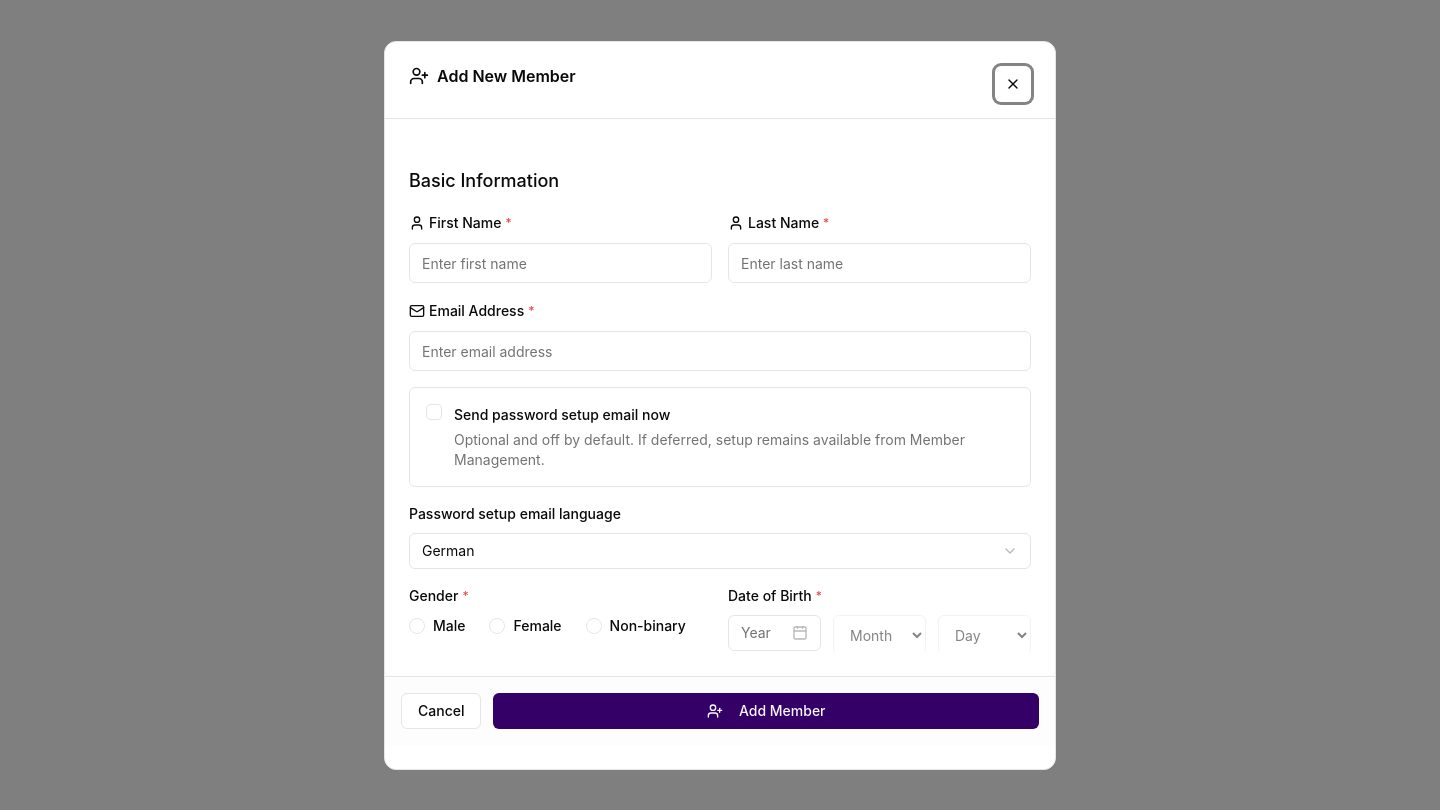
Test: AddMemberModal Account Onboarding intent › submits active Member establishment with establishPlayer=false
The image size is (1440, 810).
In the field labelled "First Name": point(560, 262) [409,242,712,282], type "New"
In the field labelled "Last Name": point(880, 262) [728,242,1031,282], type "Member"
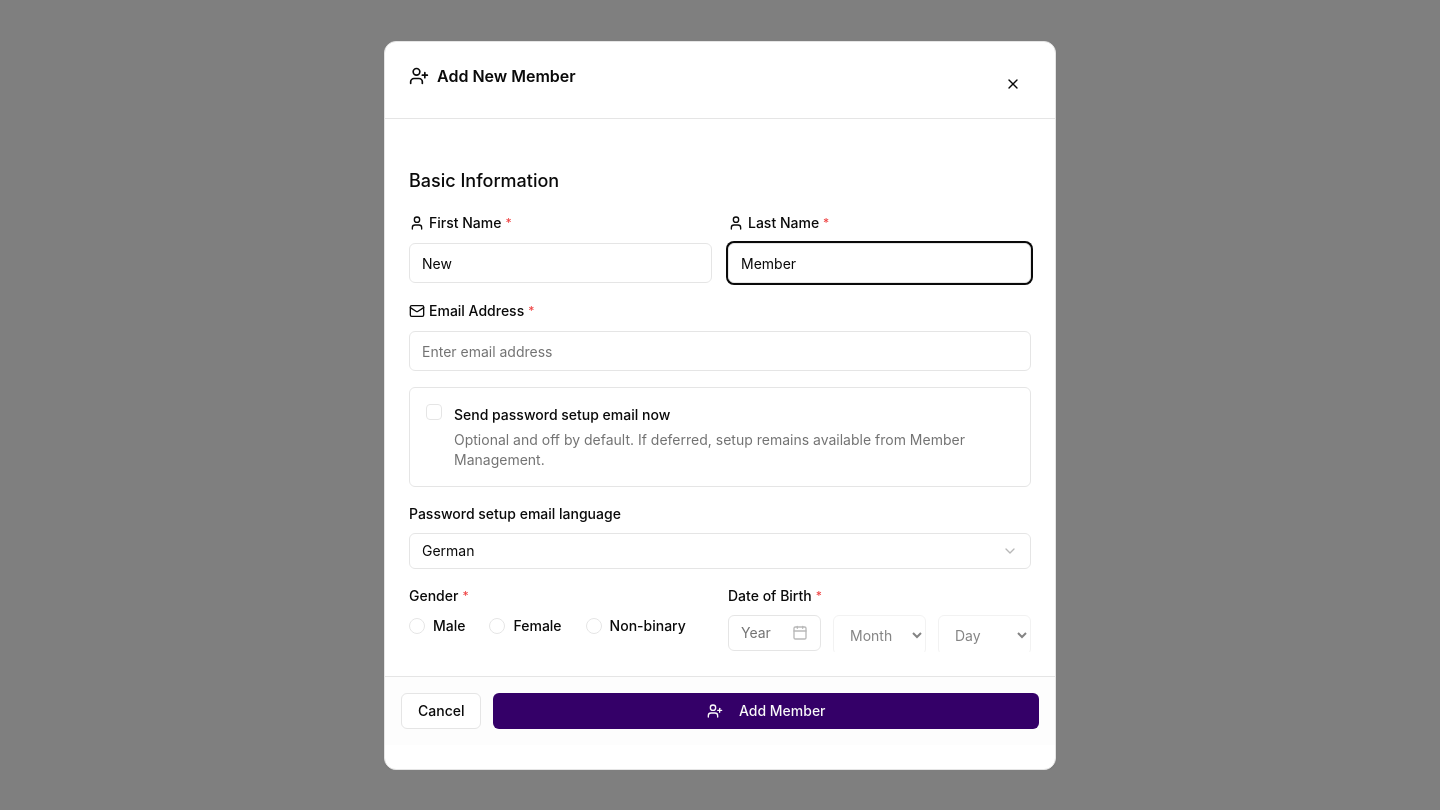
In the field labelled "Email Address": point(720, 350) [409,330,1031,370], type "new@example.test"
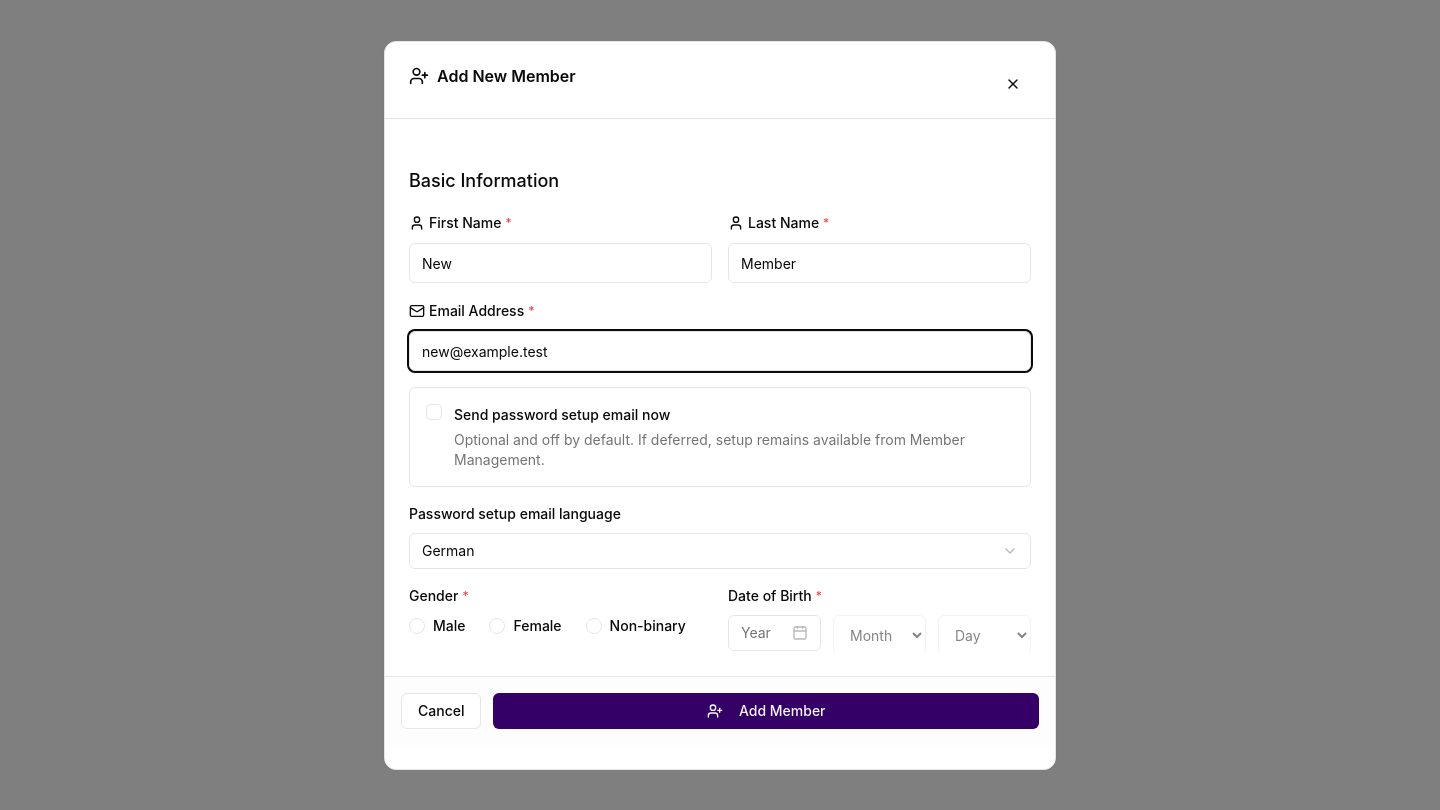
Click the radio button named "Female" next to "Female": point(498, 626) [490,618,506,634]
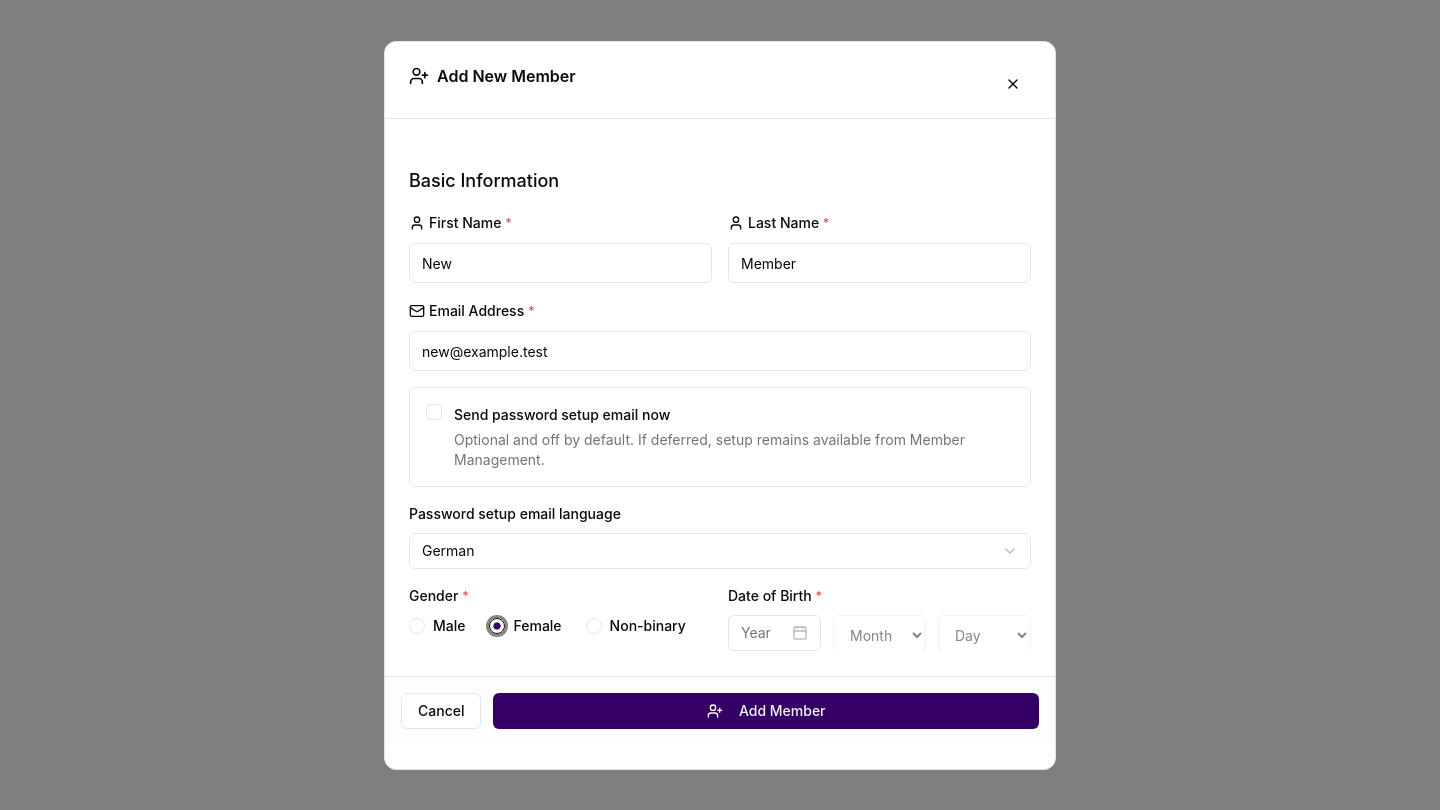
Click the dropdown named "Date of Birth": point(774, 632) [728,614,821,650]
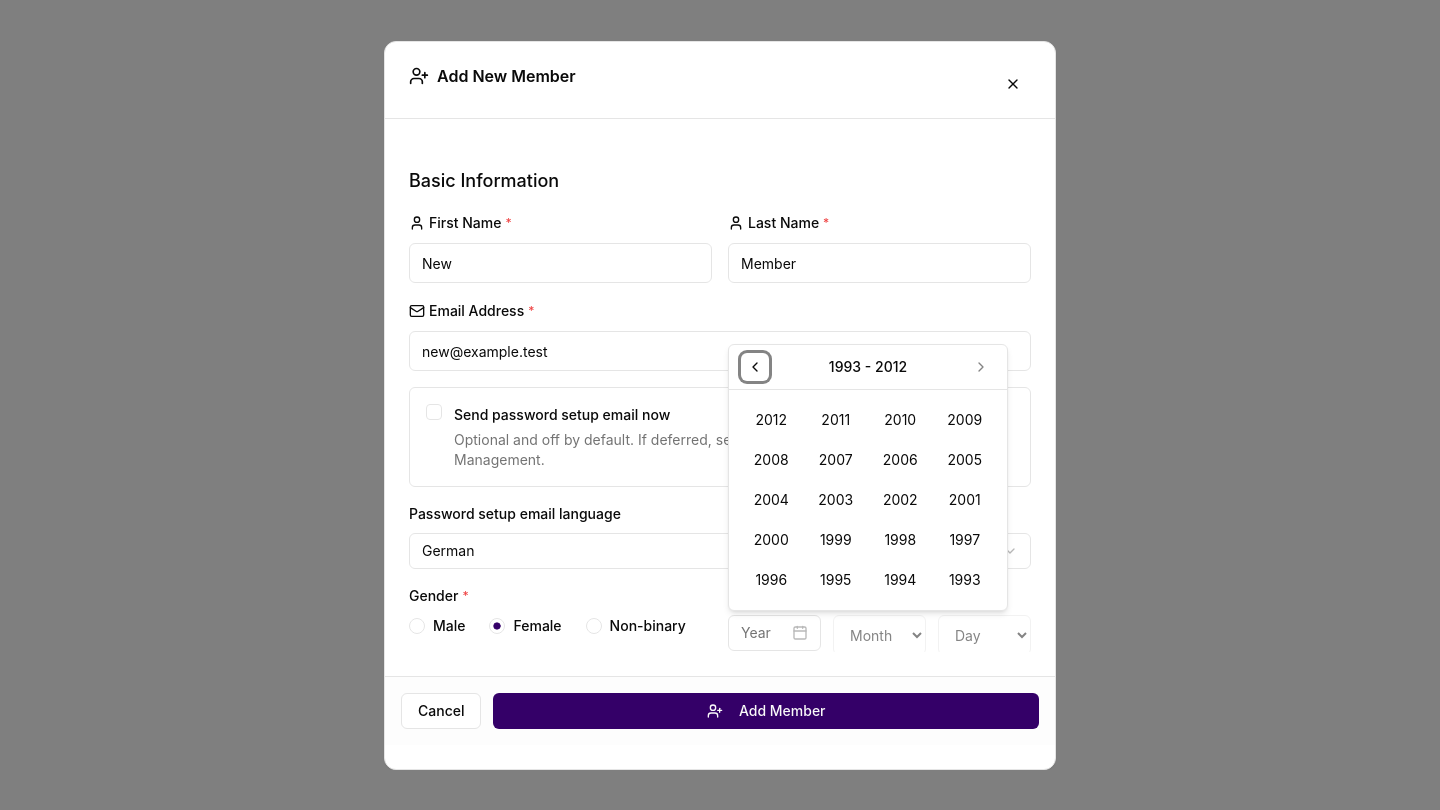
Click the button "2000": point(771, 540) [741,522,802,558]
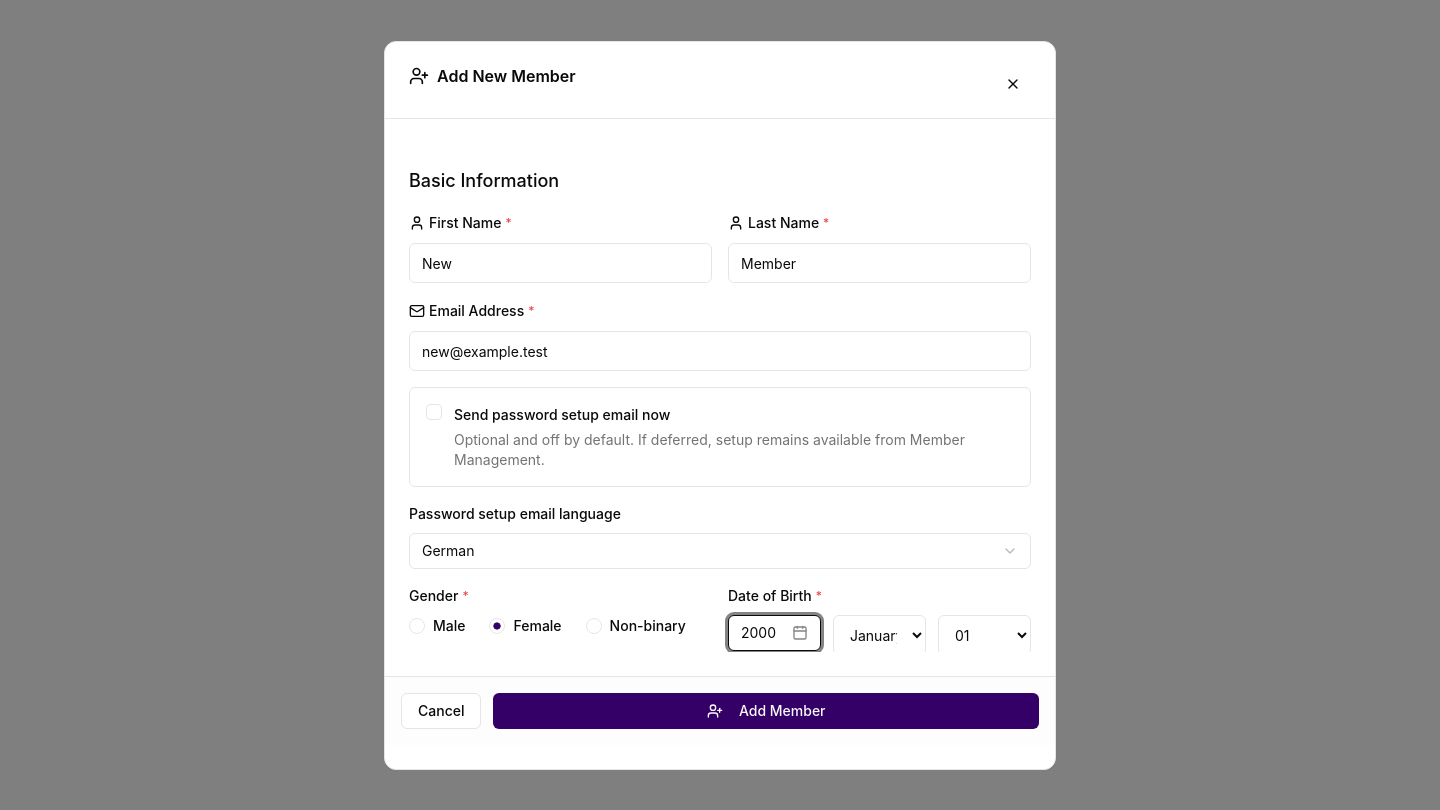
Click the button "Add Member": point(766, 710) [494,692,1039,728]
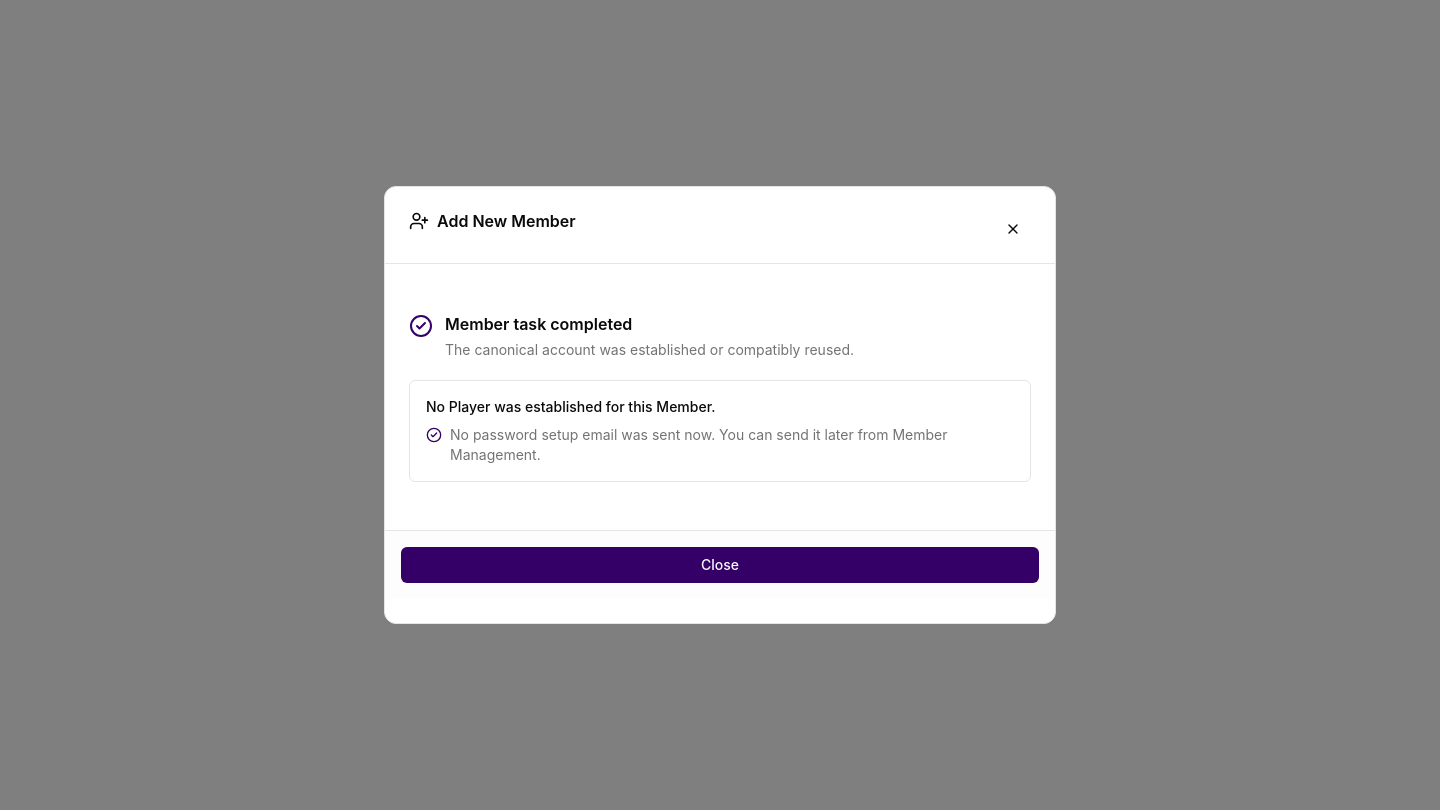
expect the heading "Member task completed" is shown: met, box [445,314,632,334]
expect the text "No Player was established for this Member." is shown: met, box [426,398,716,415]
